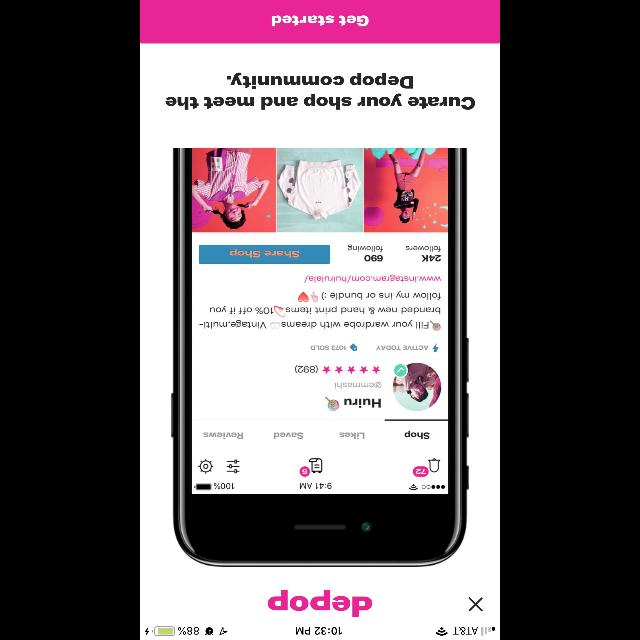icon: (468, 597, 482, 611)
image: (171, 148, 469, 566)
text: (166, 72, 474, 110), (268, 590, 372, 616)
textbutton: (140, 1, 500, 44)
uppertaskbar: (140, 626, 500, 640)
